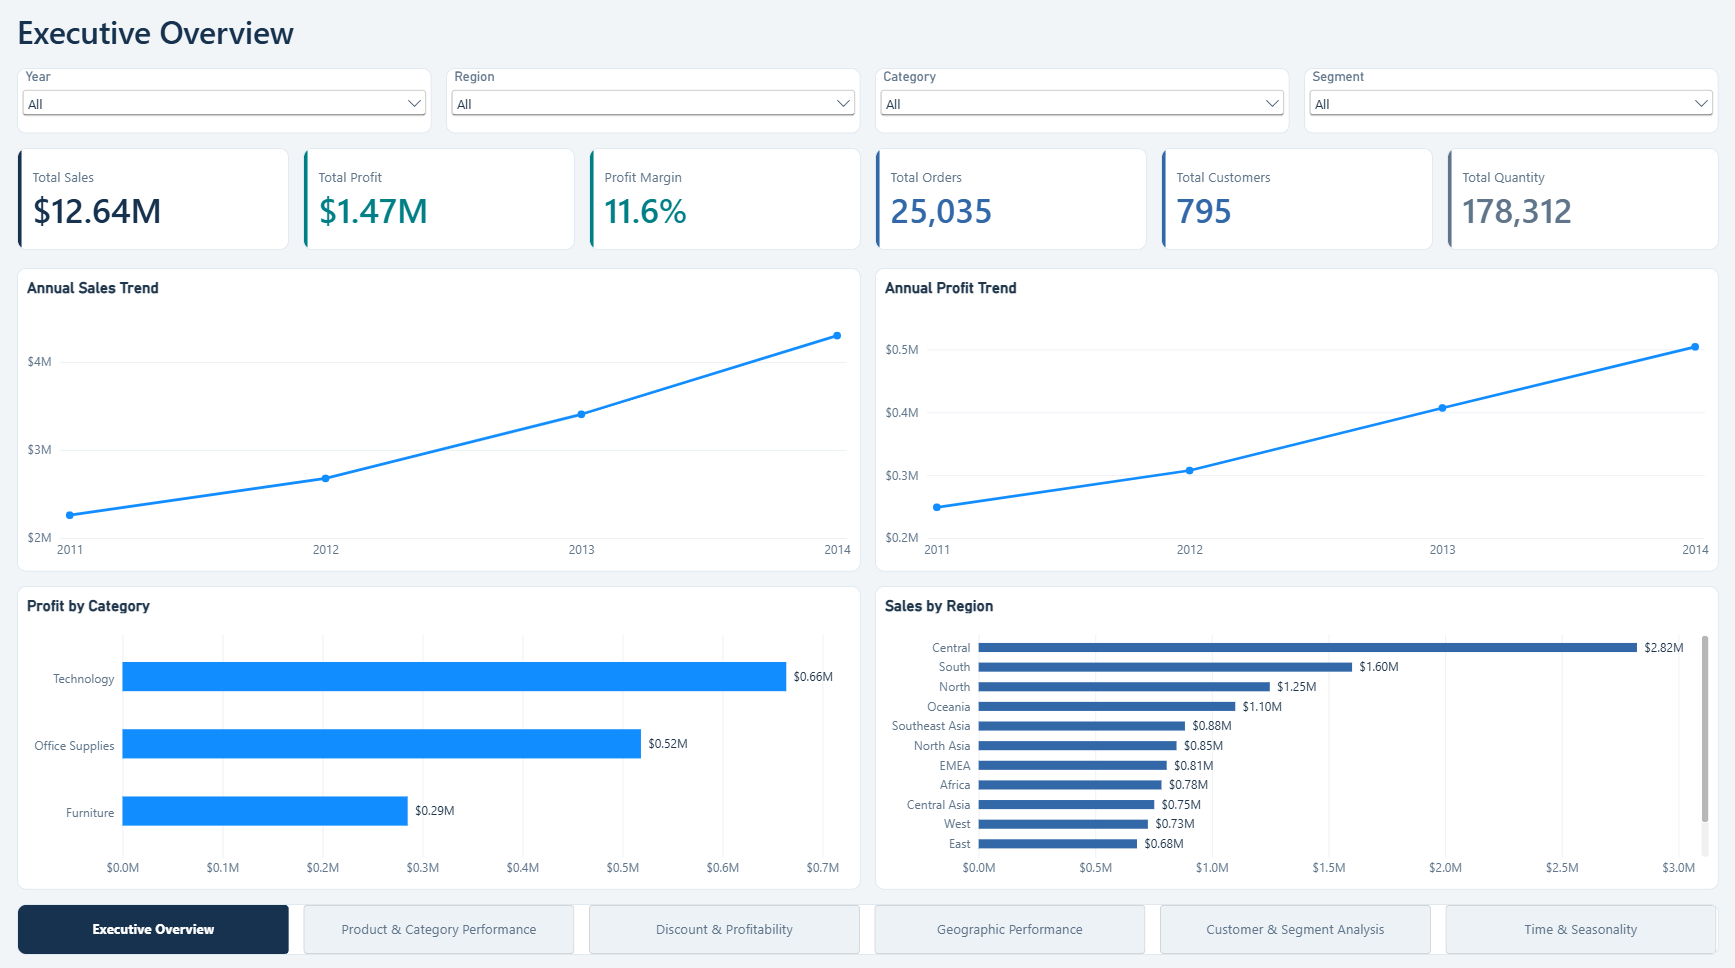

What the dashboard file says about the page in this screenshot:
{"tool":"powerbi","page":{"name":"Executive Overview","canvas":[1920,1080],"ordinal":0},"visuals":[{"type":"textbox","box":[24,16,1872,48],"z":1000},{"type":"slicer","fields":{"Values":["Global Superstore Cleaned._Year"]},"box":[24,80,456,72],"z":2000},{"type":"slicer","fields":{"Values":["Global Superstore Cleaned.Region"]},"box":[496,80,456,72],"z":3000},{"type":"slicer","fields":{"Values":["Global Superstore Cleaned.Category"]},"box":[968,80,456,72],"z":4000},{"type":"slicer","fields":{"Values":["Global Superstore Cleaned.Segment"]},"box":[1440,80,456,72],"z":5000},{"type":"cardVisual","fields":{"Data":["Global Superstore Cleaned.Total Sales"]},"box":[24,168,298.7,112],"z":6000},{"type":"cardVisual","fields":{"Data":["Global Superstore Cleaned.Total Profit"]},"box":[338.7,168,298.7,112],"z":7000},{"type":"cardVisual","fields":{"Data":["Global Superstore Cleaned.Profit Margin"]},"box":[653.3,168,298.7,112],"z":8000},{"type":"cardVisual","fields":{"Data":["Global Superstore Cleaned.Total Orders"]},"box":[968,168,298.7,112],"z":9000},{"type":"cardVisual","fields":{"Data":["Global Superstore Cleaned.Total Customers"]},"box":[1282.7,168,298.7,112],"z":10000},{"type":"cardVisual","fields":{"Data":["Global Superstore Cleaned.Total Quantity"]},"box":[1597.3,168,298.7,112],"z":11000},{"type":"lineChart","title":"Annual Sales Trend","fields":{"Category":["Global Superstore Cleaned._Year"],"Y":["Global Superstore Cleaned.Total Sales"]},"box":[24,300,928,334],"z":12000},{"type":"lineChart","title":"Annual Profit Trend","fields":{"Category":["Global Superstore Cleaned._Year"],"Y":["Global Superstore Cleaned.Total Profit"]},"box":[968,300,928,334],"z":13000},{"type":"clusteredBarChart","title":"Profit by Category","fields":{"Category":["Global Superstore Cleaned.Category"],"Y":["Global Superstore Cleaned.Total Profit"]},"box":[24,650,928,334],"z":14000},{"type":"clusteredBarChart","title":"Sales by Region","fields":{"Category":["Global Superstore Cleaned.Region"],"Y":["Global Superstore Cleaned.Total Sales"]},"box":[968,650,928,334],"z":15000},{"type":"pageNavigator","box":[24,1000,1872,56],"z":16000}]}

Visuals, with their boxes in screenshot pixels (x1, y1, x2, y2), scaled from the page's 1920x1080 canvas onto the 1735x968 screenshot:
textbox: pyautogui.locateOnScreen(22, 14, 1713, 57)
slicer - Global Superstore Cleaned._Year: pyautogui.locateOnScreen(22, 72, 434, 136)
slicer - Global Superstore Cleaned.Region: pyautogui.locateOnScreen(448, 72, 860, 136)
slicer - Global Superstore Cleaned.Category: pyautogui.locateOnScreen(875, 72, 1287, 136)
slicer - Global Superstore Cleaned.Segment: pyautogui.locateOnScreen(1301, 72, 1713, 136)
cardVisual - Global Superstore Cleaned.Total Sales: pyautogui.locateOnScreen(22, 151, 292, 251)
cardVisual - Global Superstore Cleaned.Total Profit: pyautogui.locateOnScreen(306, 151, 576, 251)
cardVisual - Global Superstore Cleaned.Profit Margin: pyautogui.locateOnScreen(590, 151, 860, 251)
cardVisual - Global Superstore Cleaned.Total Orders: pyautogui.locateOnScreen(875, 151, 1145, 251)
cardVisual - Global Superstore Cleaned.Total Customers: pyautogui.locateOnScreen(1159, 151, 1429, 251)
cardVisual - Global Superstore Cleaned.Total Quantity: pyautogui.locateOnScreen(1443, 151, 1713, 251)
"Annual Sales Trend" lineChart: pyautogui.locateOnScreen(22, 269, 860, 568)
"Annual Profit Trend" lineChart: pyautogui.locateOnScreen(875, 269, 1713, 568)
"Profit by Category" clusteredBarChart: pyautogui.locateOnScreen(22, 583, 860, 882)
"Sales by Region" clusteredBarChart: pyautogui.locateOnScreen(875, 583, 1713, 882)
pageNavigator: pyautogui.locateOnScreen(22, 896, 1713, 946)
